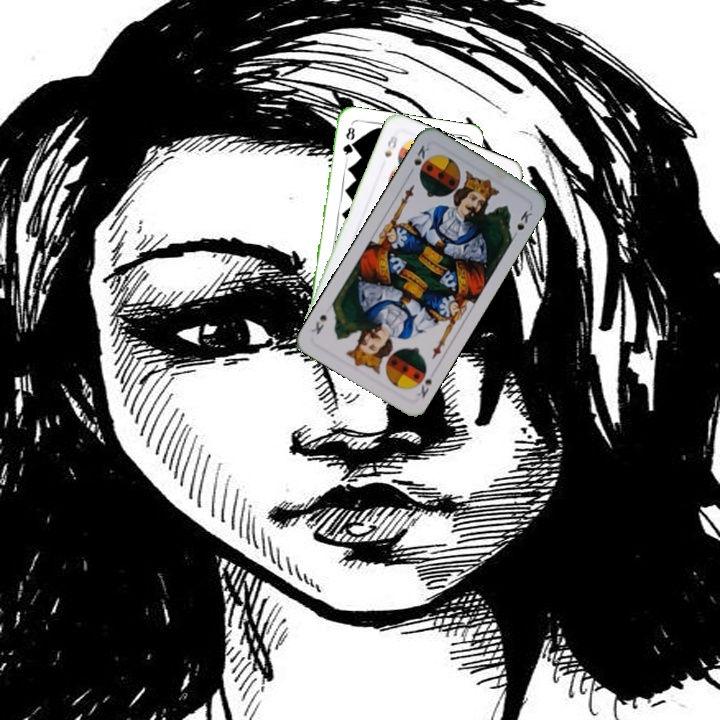G8: (339, 123, 357, 161)
S8: (380, 131, 400, 160)
SK: (405, 141, 432, 178), (413, 375, 435, 401)
